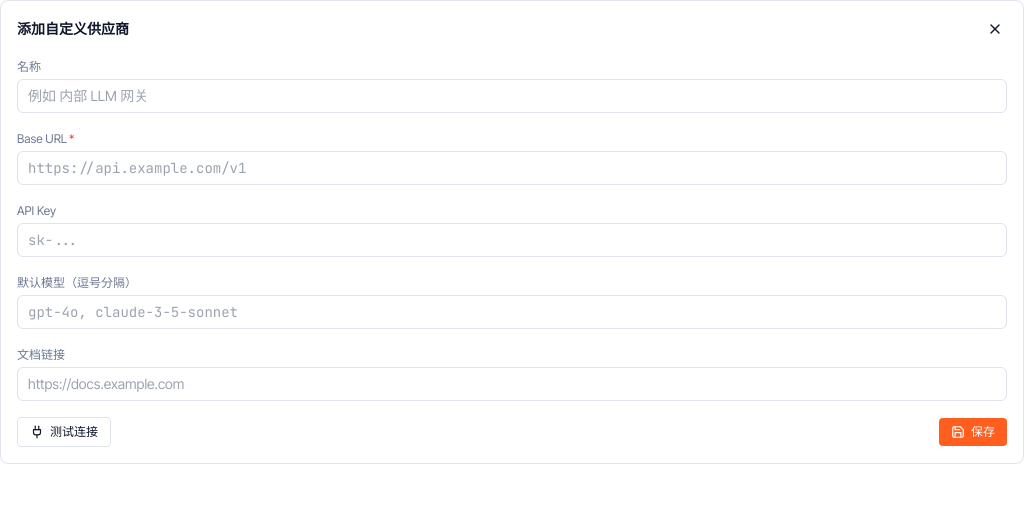
Scenario: CustomProviderForm › shows model count + latency on a successful test
Type "https://x.test" into the field with placeholder "https://api.example.com/v1" at coordinates (512, 168), box [17, 151, 1007, 185]
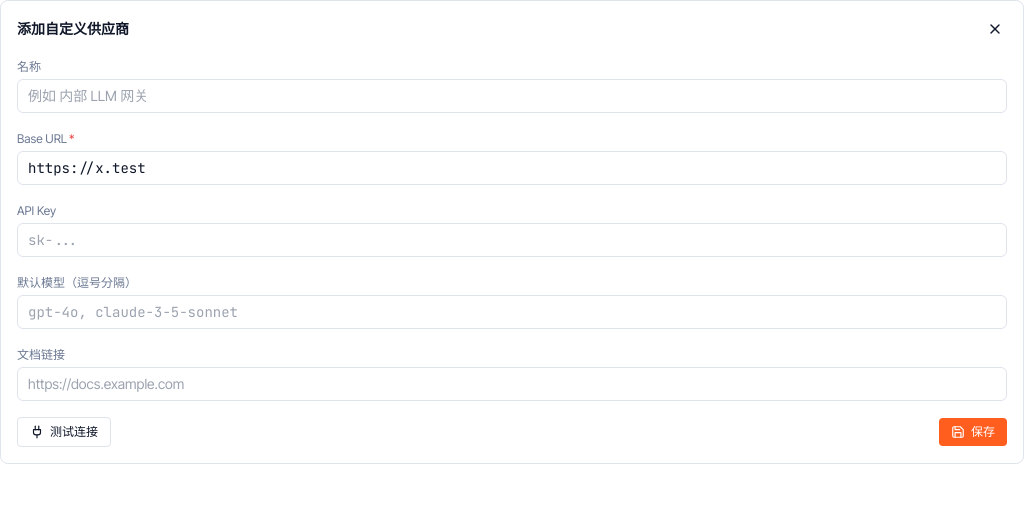
Click the button "测试连接" at coordinates (64, 432), box [17, 417, 111, 447]
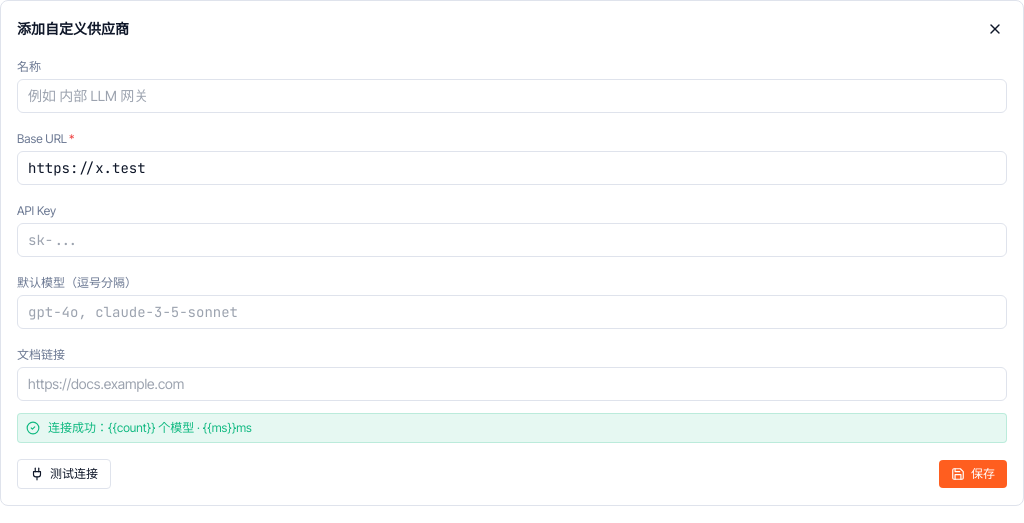
Expected: the text "连接成功：{{count}} 个模型 · {{ms}}ms" is shown, [17, 413, 1007, 443]
